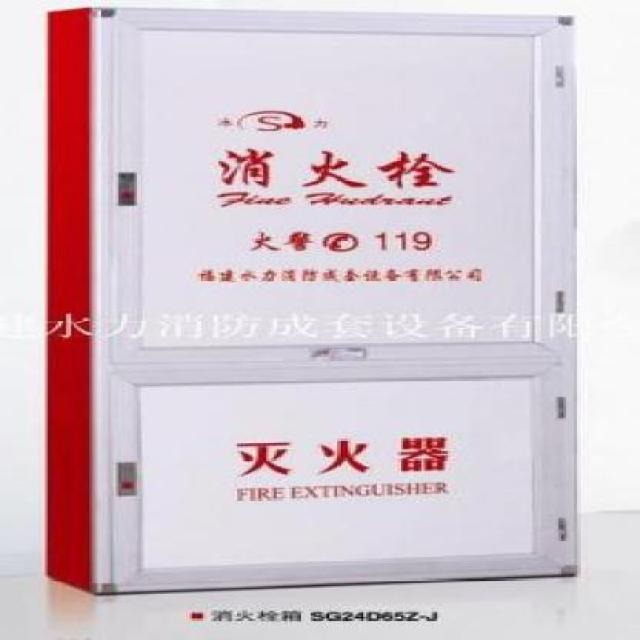firehydrant: (32, 2, 593, 599)
